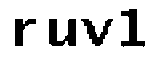1: (119, 6, 146, 51)
r: (12, 14, 38, 50)
u: (43, 14, 80, 52)
v: (82, 15, 116, 49)
